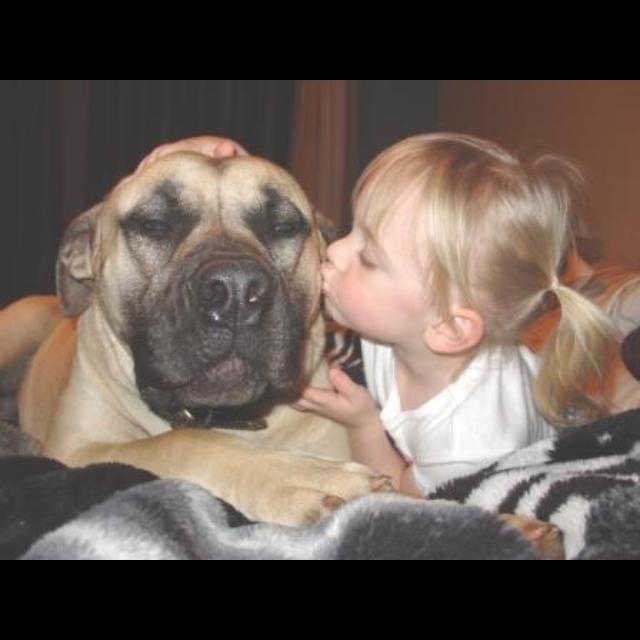bullmastiff: (1, 149, 567, 561)
face: (322, 176, 490, 360)
person: (290, 132, 581, 502)
